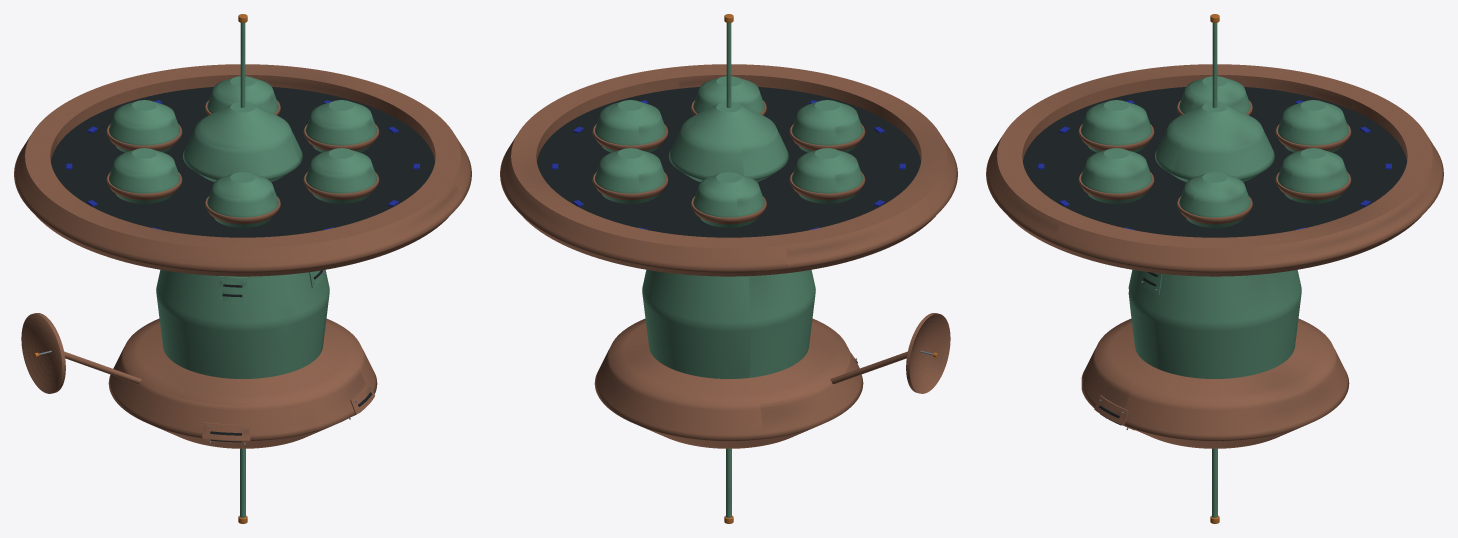
The picture shows the model from 3 angles, left to right: view 1: azimuth 30°, elevation 25°; view 2: azimuth 150°, elevation 25°; view 3: azimuth 270°, elevation 25°; orthographic projection.
Visible parts, largest first — view 1: Geostationary copper face rim, Geostationary dark backing face, Geostationary copper aft shell, Geostationary green axial body, Geostationary green central boss, Geostationary front module 4, Geostationary front module 3, Geostationary front module 5, Geostationary side dish, Geostationary front module 0, Geostationary front module 2, Geostationary front module 1 (+6 smaller); view 2: Geostationary copper face rim, Geostationary dark backing face, Geostationary copper aft shell, Geostationary green axial body, Geostationary green central boss, Geostationary front module 2, Geostationary front module 1, Geostationary front module 3, Geostationary side dish, Geostationary front module 0, Geostationary front module 4, Geostationary front module 5 (+4 smaller); view 3: Geostationary copper face rim, Geostationary dark backing face, Geostationary copper aft shell, Geostationary green axial body, Geostationary green central boss, Geostationary front module 0, Geostationary front module 5, Geostationary front module 1, Geostationary front module 4, Geostationary front module 2, Geostationary front module 3, Geostationary module copper collar 5 (+3 smaller).
Part boxes in pixels (box(x1,y1,x2,y2)): Geostationary copper face rim: box(14, 64, 471, 276); Geostationary dark backing face: box(51, 87, 434, 237); Geostationary copper aft shell: box(108, 318, 377, 448); Geostationary green axial body: box(156, 270, 329, 378); Geostationary green central boss: box(183, 102, 302, 181); Geostationary front module 4: box(207, 172, 278, 227); Geostationary front module 3: box(109, 148, 180, 203); Geostationary front module 5: box(305, 148, 376, 203); Geostationary side dish: box(21, 313, 65, 393); Geostationary front module 0: box(305, 100, 376, 152); Geostationary front module 2: box(109, 100, 180, 152); Geostationary front module 1: box(207, 76, 278, 113); Geostationary copper face rim: box(500, 64, 957, 276); Geostationary dark backing face: box(537, 87, 920, 237); Geostationary copper aft shell: box(594, 318, 863, 448); Geostationary green axial body: box(642, 270, 815, 378); Geostationary green central boss: box(669, 102, 788, 181); Geostationary front module 2: box(693, 172, 764, 227); Geostationary front module 1: box(595, 148, 666, 203); Geostationary front module 3: box(791, 148, 862, 203); Geostationary side dish: box(906, 313, 950, 393); Geostationary front module 0: box(595, 100, 666, 152); Geostationary front module 4: box(791, 100, 862, 152); Geostationary front module 5: box(693, 76, 764, 113); Geostationary copper face rim: box(986, 64, 1443, 276); Geostationary dark backing face: box(1023, 87, 1406, 237); Geostationary copper aft shell: box(1081, 318, 1349, 448); Geostationary green axial body: box(1128, 270, 1301, 378); Geostationary green central boss: box(1155, 102, 1274, 181); Geostationary front module 0: box(1179, 172, 1250, 227); Geostationary front module 5: box(1081, 148, 1152, 203); Geostationary front module 1: box(1278, 148, 1348, 203); Geostationary front module 4: box(1081, 100, 1152, 152); Geostationary front module 2: box(1278, 100, 1348, 152); Geostationary front module 3: box(1179, 76, 1250, 113); Geostationary module copper collar 5: box(1078, 172, 1154, 200).
Bounding box in the file's own units: 2.97 × 3.54 × 2.9.
6 materials, 2 textured.
